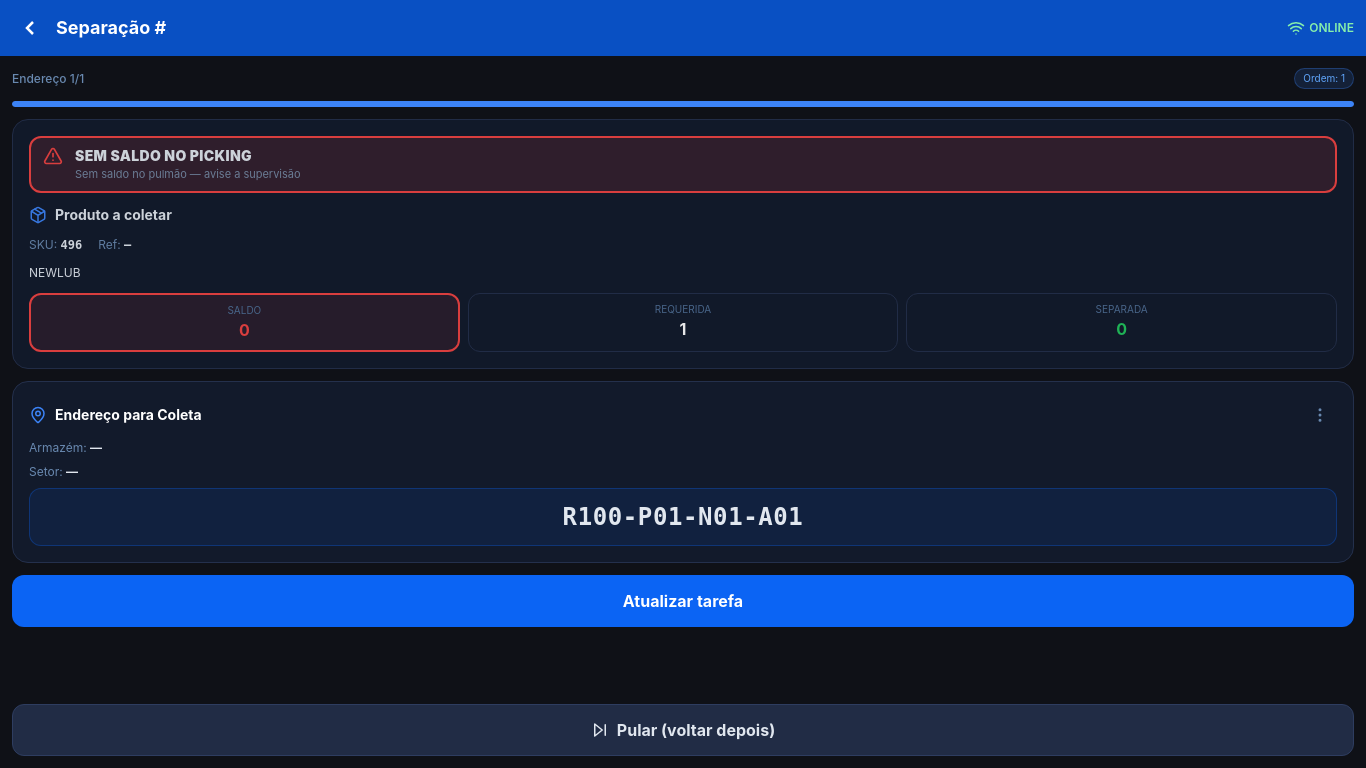
troca de endereço pelo modal Outros Endereços › endereço que não atende a quantidade aparece desabilitado
This screenshot has width=1366, height=768.
What coordinates should you click on to do the following:
click the button named "Mais opções"
I would click on:
 (1320, 415)
Its box is [1303,398,1337,432].
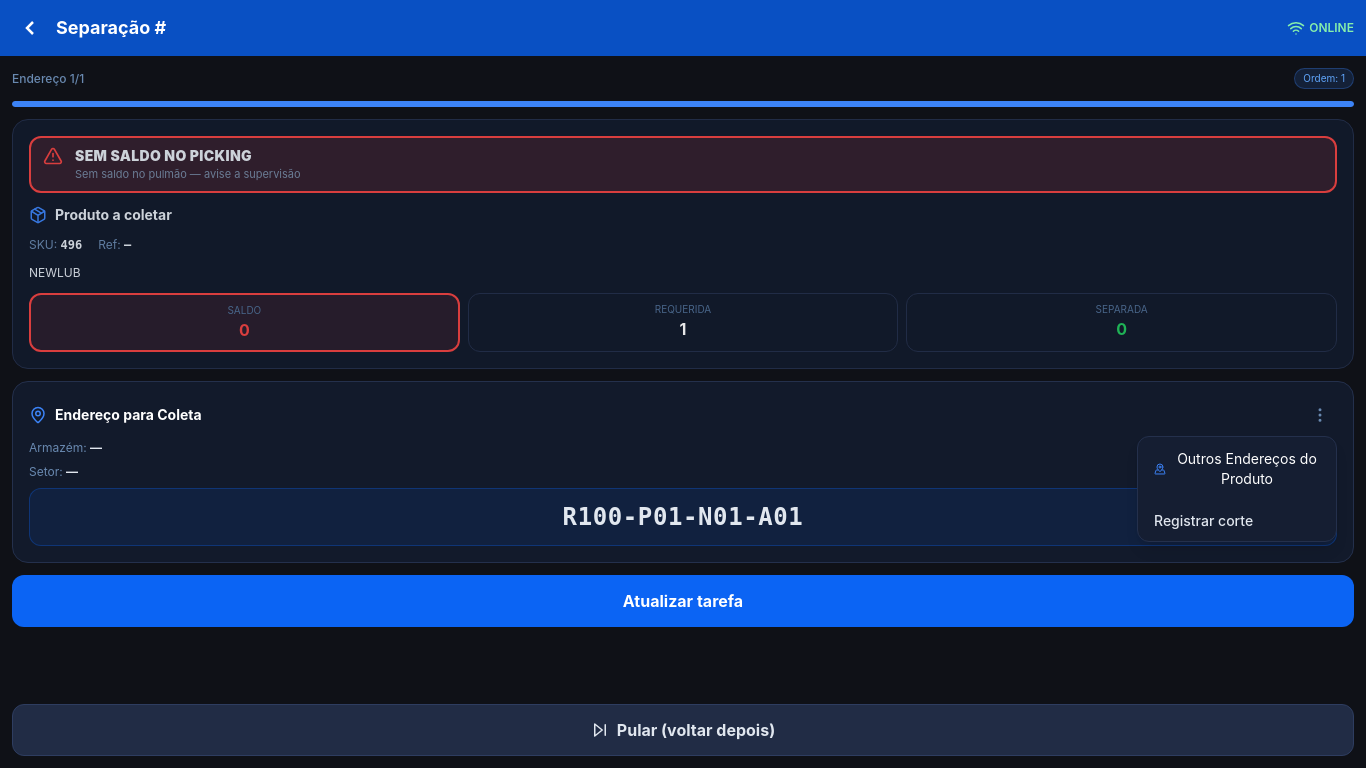
What coordinates should you click on to do the following:
click the button "Outros Endereços do Produto"
I would click on:
 (1237, 469)
Its box is [1138,437,1336,501].
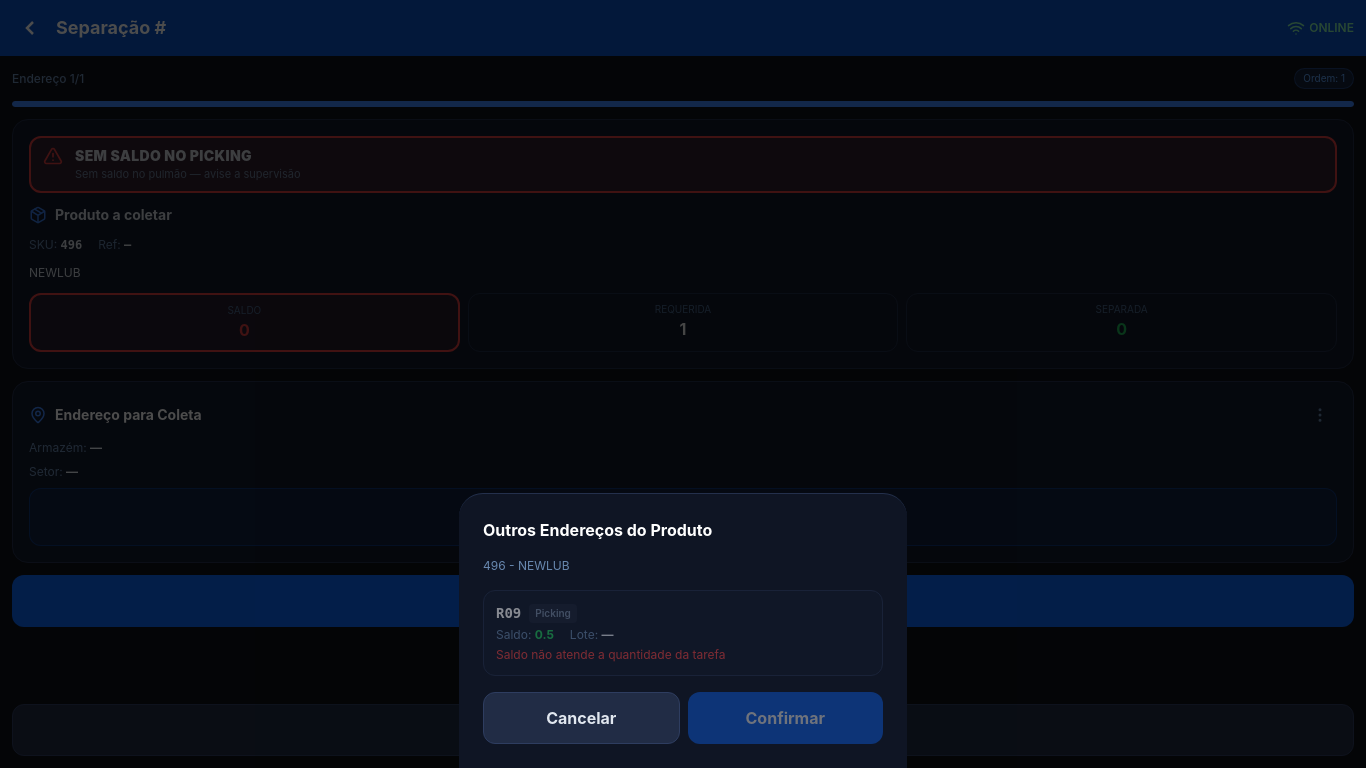
Expected: the button that starts with "R09" is disabled, [483,590,883,676]
Expected: the text "Saldo não atende a quantidade da tarefa" is shown, [496,647,726,663]
